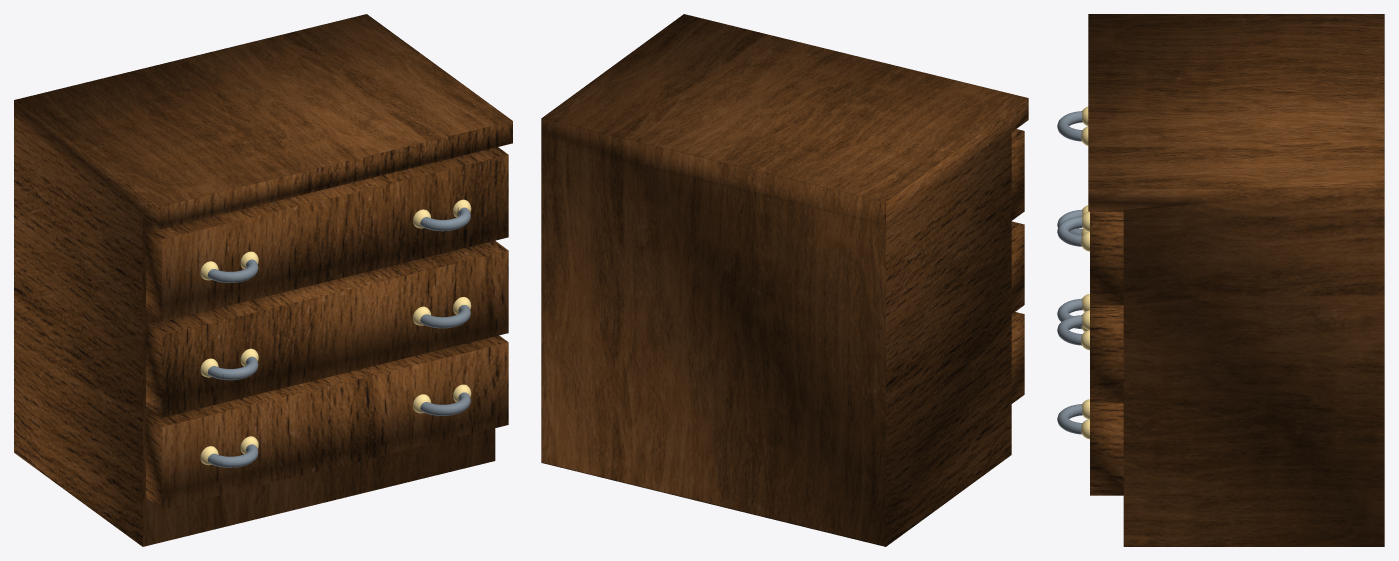
Rendered from ChestOfDrawers.fbx.
3 views of the same model, side by side, from view 1: azimuth 30°, elevation 25°; view 2: azimuth 150°, elevation 25°; view 3: azimuth 270°, elevation 25° (orthographic). The views are drawn at different scales.
Parts seen in each view (by area): view 1: ChestOfDrawers; view 2: ChestOfDrawers; view 3: ChestOfDrawers.
Part boxes in pixels (x1,y1,x2,y2): ChestOfDrawers: [14, 14, 512, 546]; ChestOfDrawers: [541, 14, 1028, 546]; ChestOfDrawers: [1057, 14, 1384, 546].
Bounding box in the file's own units: 123 × 118 × 97.63.
1 material, 1 textured.
